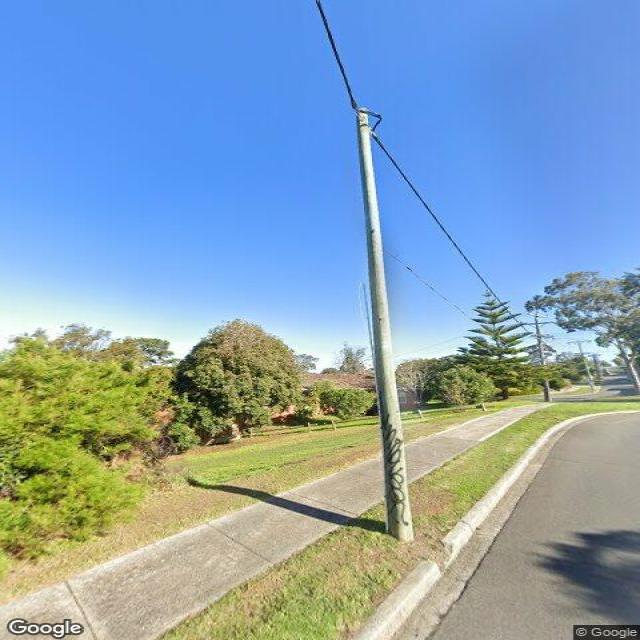crossarm: (520, 321, 555, 326), (530, 334, 554, 338), (566, 340, 592, 343), (575, 352, 592, 354)
timber-pole: (353, 109, 412, 540), (535, 311, 550, 403), (577, 340, 596, 392)
